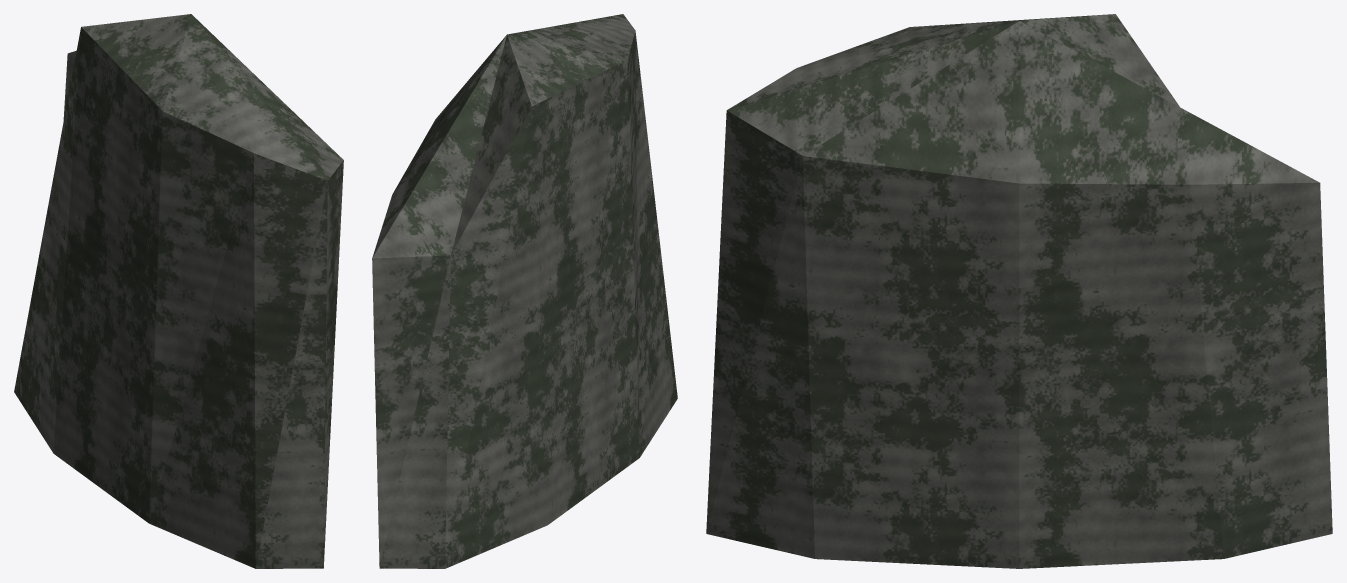
Rendered from ErodedCliff62346.raw.glb.
The picture shows the model from 3 angles, left to right: view 1: azimuth 30°, elevation 25°; view 2: azimuth 150°, elevation 25°; view 3: azimuth 270°, elevation 25°; orthographic projection. The views are drawn at different scales.
Parts seen in each view (by area): view 1: WeatheredStrata/detail, WeatheredStrata/primary; view 2: WeatheredStrata/detail, WeatheredStrata/primary; view 3: WeatheredStrata/detail, WeatheredStrata/primary.
Part boxes in pixels (bbox=[...]): WeatheredStrata/detail: bbox=[19, 15, 343, 536]; WeatheredStrata/primary: bbox=[14, 14, 325, 568]; WeatheredStrata/detail: bbox=[372, 14, 674, 542]; WeatheredStrata/primary: bbox=[379, 33, 677, 568]; WeatheredStrata/detail: bbox=[708, 14, 1331, 536]; WeatheredStrata/primary: bbox=[706, 20, 1332, 568].
Size of the model in its own units: 12.93 by 34 by 37.42.
1 material, 1 textured.
